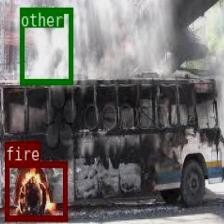fire: (4, 161, 66, 219)
